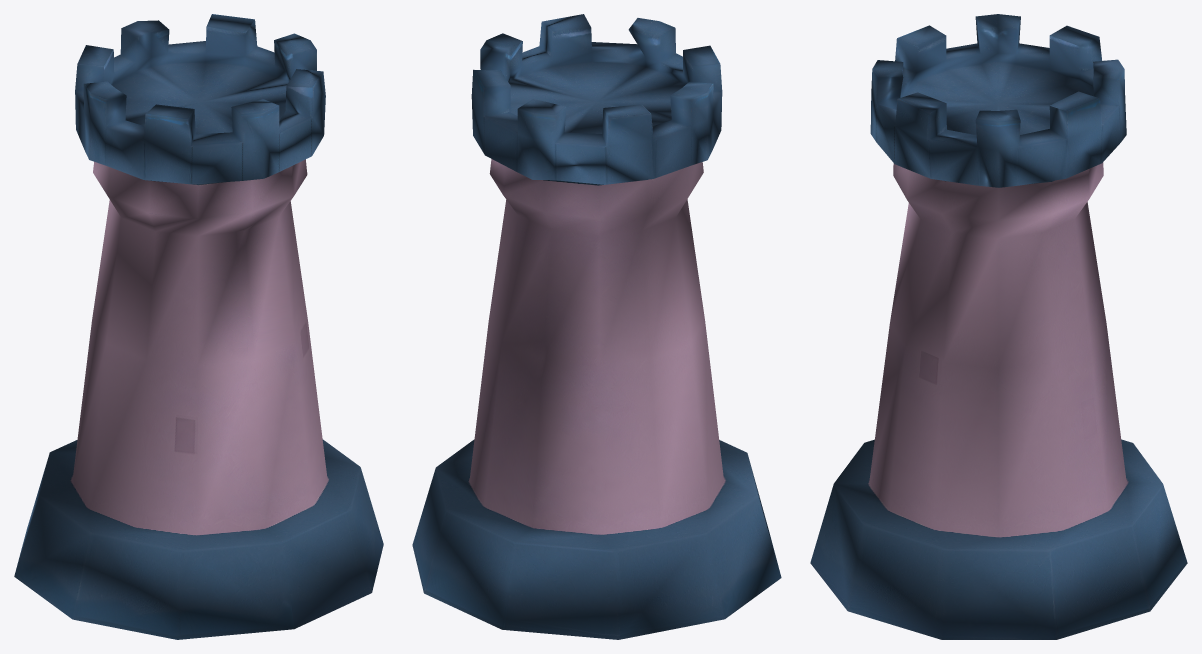
The model's file is Meshy_AI_Blue_Crowned_Rook_0719144937_texture.fbx.
The picture shows the model from 3 angles, left to right: view 1: azimuth 30°, elevation 25°; view 2: azimuth 150°, elevation 25°; view 3: azimuth 270°, elevation 25°; orthographic projection.
Parts seen in each view (by area): view 1: Mesh_0.001; view 2: Mesh_0.001; view 3: Mesh_0.001.
Boxes of the visible parts, left/top/right/bottom form: Mesh_0.001: left=14, top=14, right=383, bottom=639; Mesh_0.001: left=412, top=14, right=781, bottom=639; Mesh_0.001: left=810, top=14, right=1187, bottom=639.
Bounding box in the file's own units: 66.02 × 100 × 68.95.
Materials: 1 (1 with a texture image).
